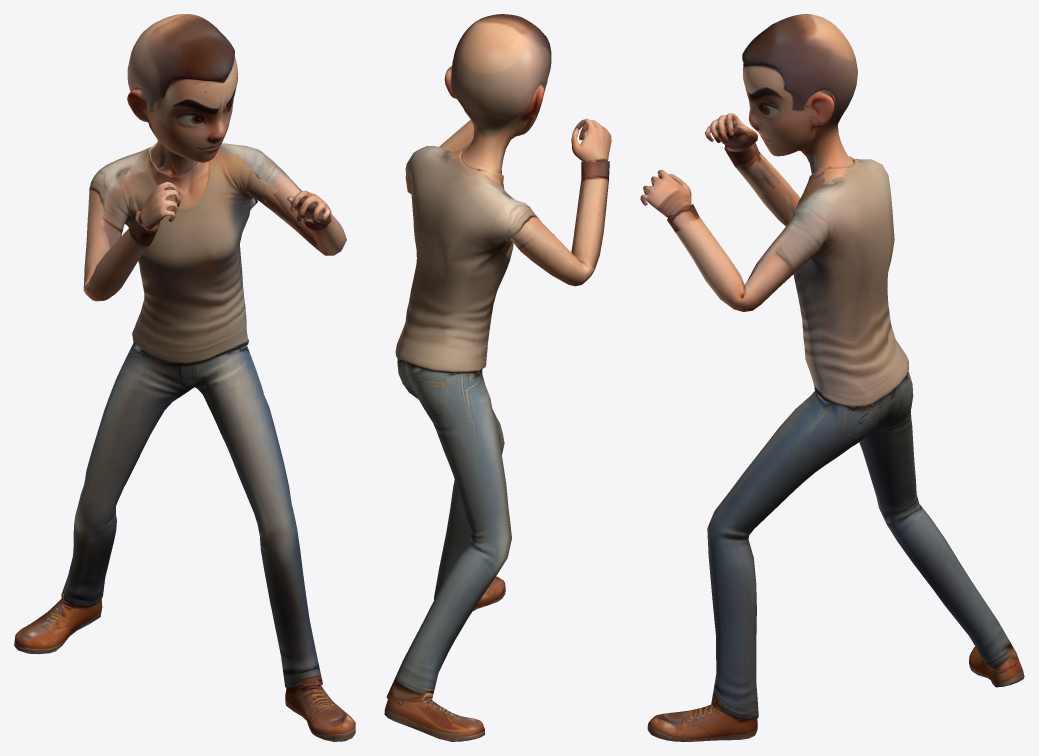
The model's file is man.glb.
3 renders of one model, left to right at view 1: azimuth 30°, elevation 25°; view 2: azimuth 150°, elevation 25°; view 3: azimuth 270°, elevation 25°, orthographic. The views are drawn at different scales.
Size of the model in its own units: 0.6911 by 2 by 1.04.
Materials: 1 (1 with a texture image).
